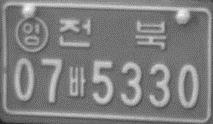0: (12, 57, 35, 103), (177, 63, 199, 109)
3: (119, 61, 143, 108), (148, 63, 171, 109)
5: (90, 59, 114, 104)
7: (38, 57, 63, 105)
바: (67, 64, 88, 99)
영: (14, 15, 49, 53)
전북_D: (57, 17, 166, 50)
